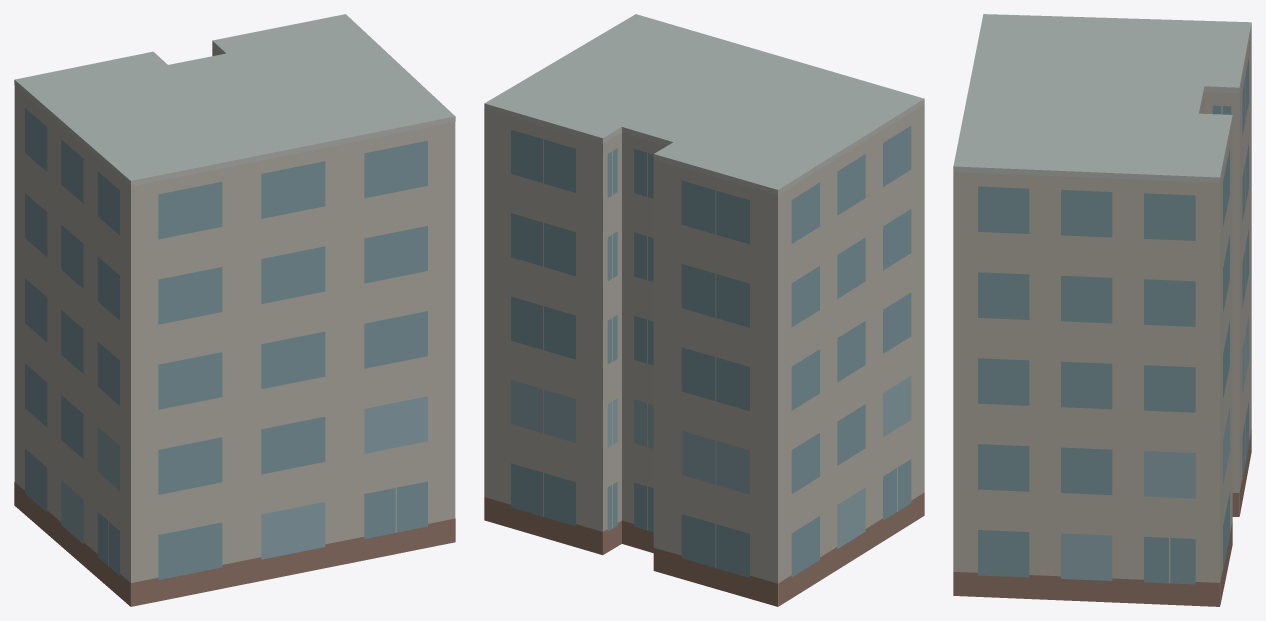
The model's file is survey-upis-32921204.glb.
3 renders of one model, left to right at view 1: azimuth 30°, elevation 25°; view 2: azimuth 150°, elevation 25°; view 3: azimuth 270°, elevation 25°, orthographic. The views are drawn at different scales.
Visible parts, largest first — view 1: survey-upis-32921204.tmp; view 2: survey-upis-32921204.tmp; view 3: survey-upis-32921204.tmp.
Part boxes in pixels (box(x1,y1,x2,y2)): survey-upis-32921204.tmp: box(14, 14, 455, 606); survey-upis-32921204.tmp: box(484, 14, 924, 606); survey-upis-32921204.tmp: box(953, 14, 1251, 606).
Size of the model in its own units: 15.45 by 18.9 by 11.91.
